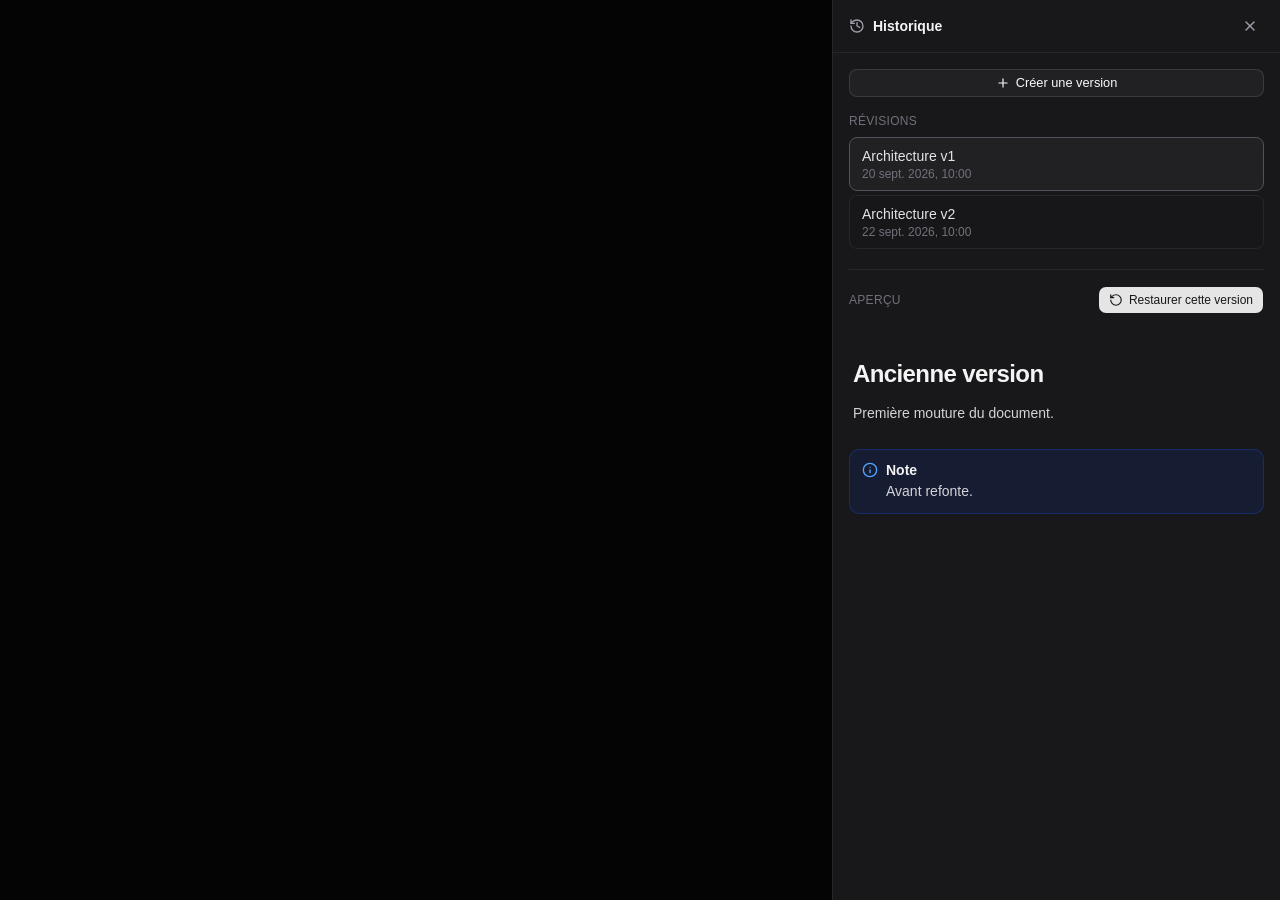
HistoryDrawer › crée une version manuelle et l’ajoute en tête de liste
This screenshot has width=1280, height=900.
Click the button "Créer une version" at {"x": 1056, "y": 83}, box x1=849 y1=69 x2=1264 y2=97
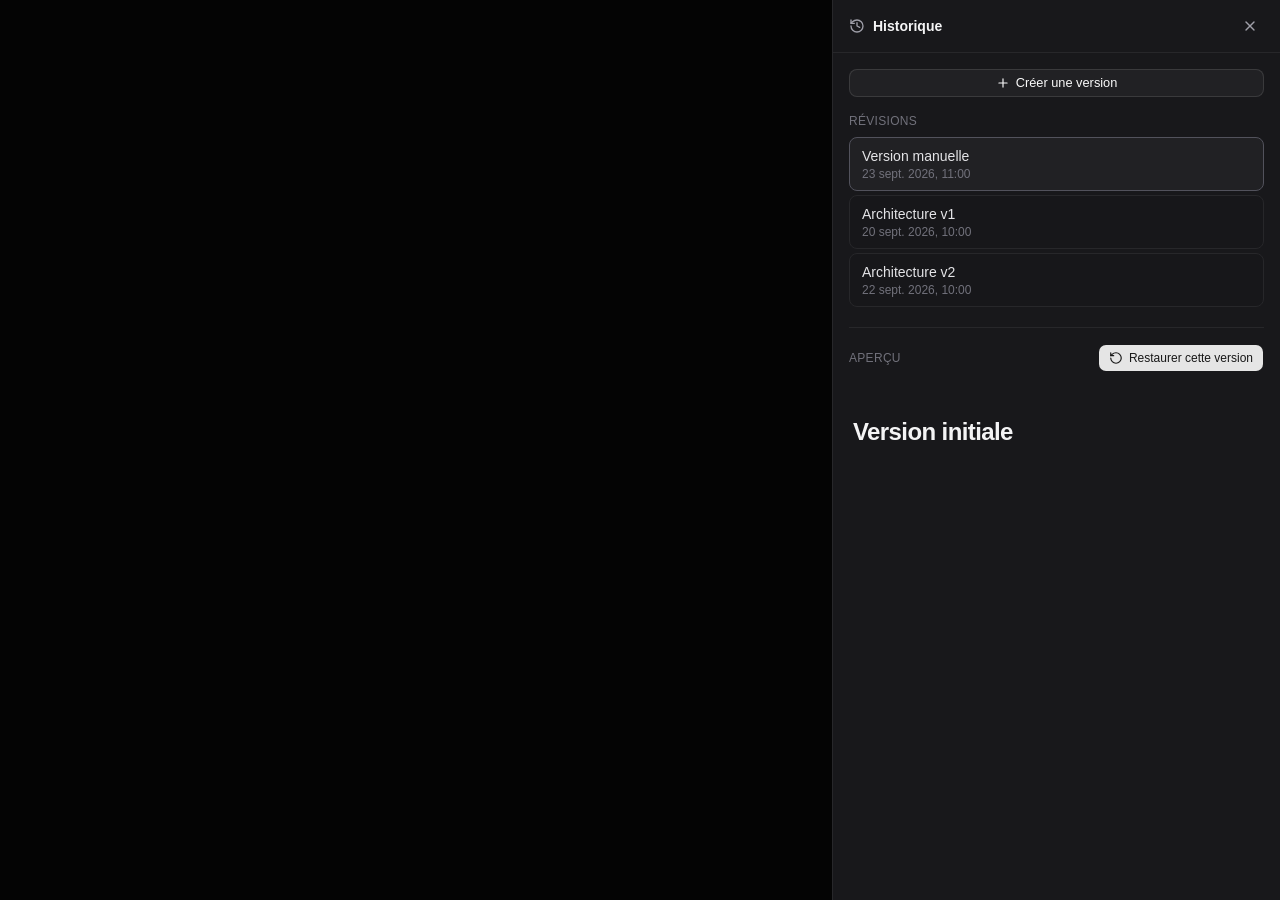
expect the text "Version manuelle" is shown: met, box x1=862 y1=148 x2=969 y2=164
